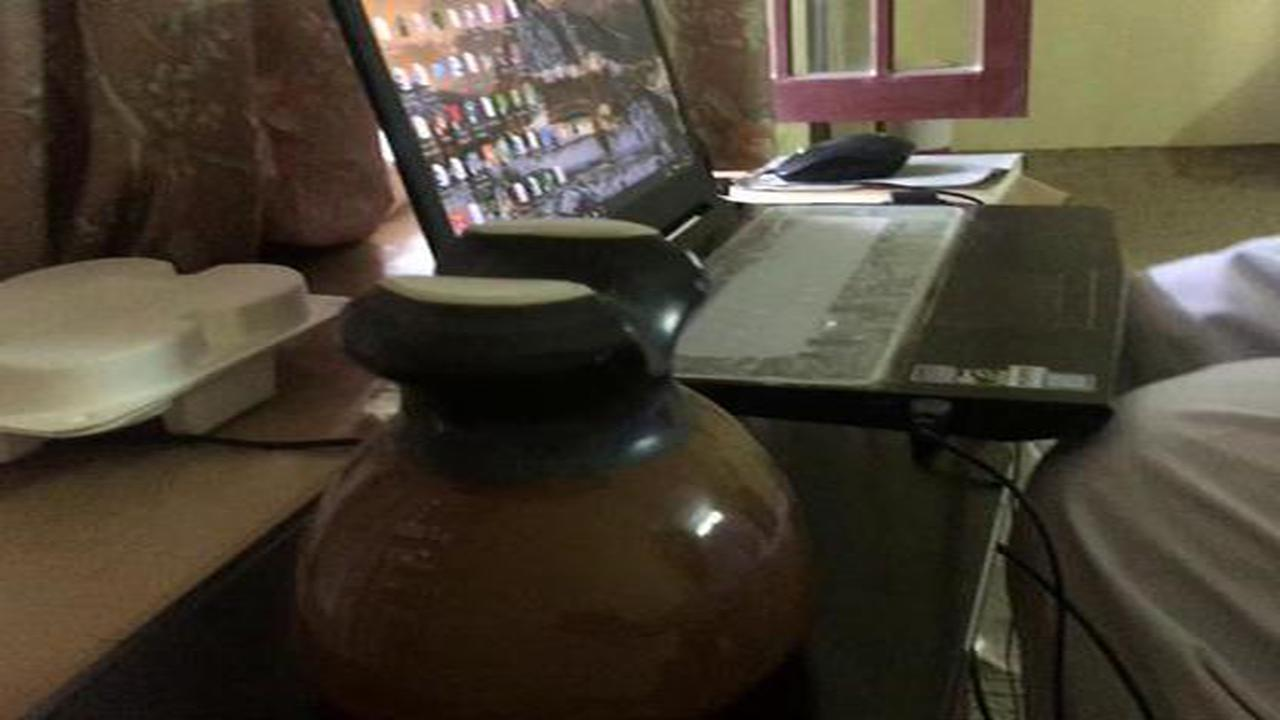insulator_pin: (271, 206, 856, 714)
